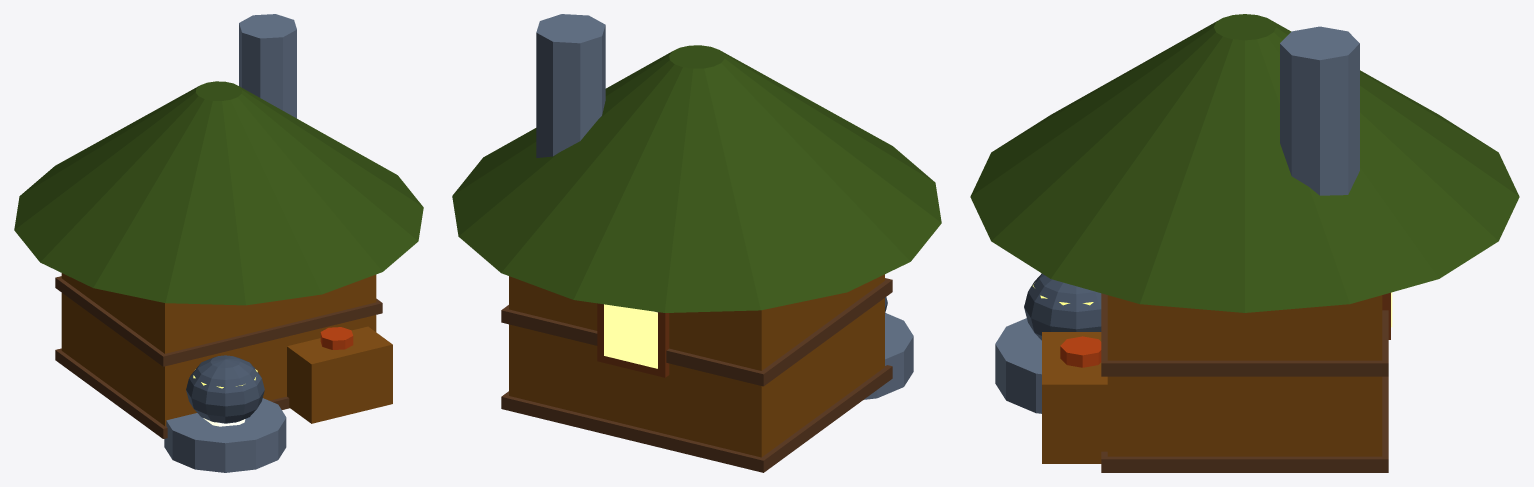
Rendered from cocina_juncia.glb.
The picture shows the model from 3 angles, left to right: view 1: azimuth 30°, elevation 25°; view 2: azimuth 150°, elevation 25°; view 3: azimuth 270°, elevation 25°; orthographic projection. The views are drawn at different scales.
Parts seen in each view (by area): view 1: Cone, Cube, Cube.004, Cylinder.001, Cylinder, Cube.002, Sphere, Cube.001, Cylinder.003; view 2: Cone, Cube, Cylinder, Cube.001, Cube.002, Cube.006, Cylinder.001, Cube.005; view 3: Cone, Cube, Cylinder, Cube.004, Cube.002, Cube.001, Sphere, Cylinder.001, Cylinder.003.
Part boxes in pixels (x1=…): Cone: x1=14, y1=81, x2=423, y2=305; Cube: x1=61, y1=273, x2=376, y2=425; Cube.004: x1=287, y1=326, x2=392, y2=423; Cylinder.001: x1=164, y1=398, x2=286, y2=472; Cylinder: x1=239, y1=14, x2=296, y2=118; Cube.002: x1=55, y1=276, x2=382, y2=366; Sphere: x1=186, y1=355, x2=264, y2=423; Cube.001: x1=55, y1=348, x2=289, y2=438; Cylinder.003: x1=320, y1=327, x2=353, y2=349; Cone: x1=452, y1=45, x2=941, y2=312; Cube: x1=509, y1=274, x2=884, y2=457; Cylinder: x1=536, y1=14, x2=605, y2=157; Cube.001: x1=501, y1=365, x2=892, y2=472; Cube.002: x1=501, y1=278, x2=892, y2=386; Cube.006: x1=604, y1=304, x2=657, y2=368; Cylinder.001: x1=864, y1=313, x2=913, y2=399; Cube.005: x1=597, y1=303, x2=669, y2=377; Cone: x1=970, y1=14, x2=1519, y2=312; Cube: x1=1107, y1=295, x2=1382, y2=456; Cylinder: x1=1280, y1=26, x2=1359, y2=195; Cube.004: x1=1042, y1=332, x2=1107, y2=463; Cube.002: x1=1101, y1=293, x2=1388, y2=376; Cube.001: x1=1101, y1=376, x2=1388, y2=472; Sphere: x1=1024, y1=273, x2=1101, y2=340; Cylinder.001: x1=995, y1=318, x2=1041, y2=413; Cylinder.003: x1=1060, y1=336, x2=1101, y2=367.
Size of the model in its own units: 4.4 by 3.77 by 4.4.
